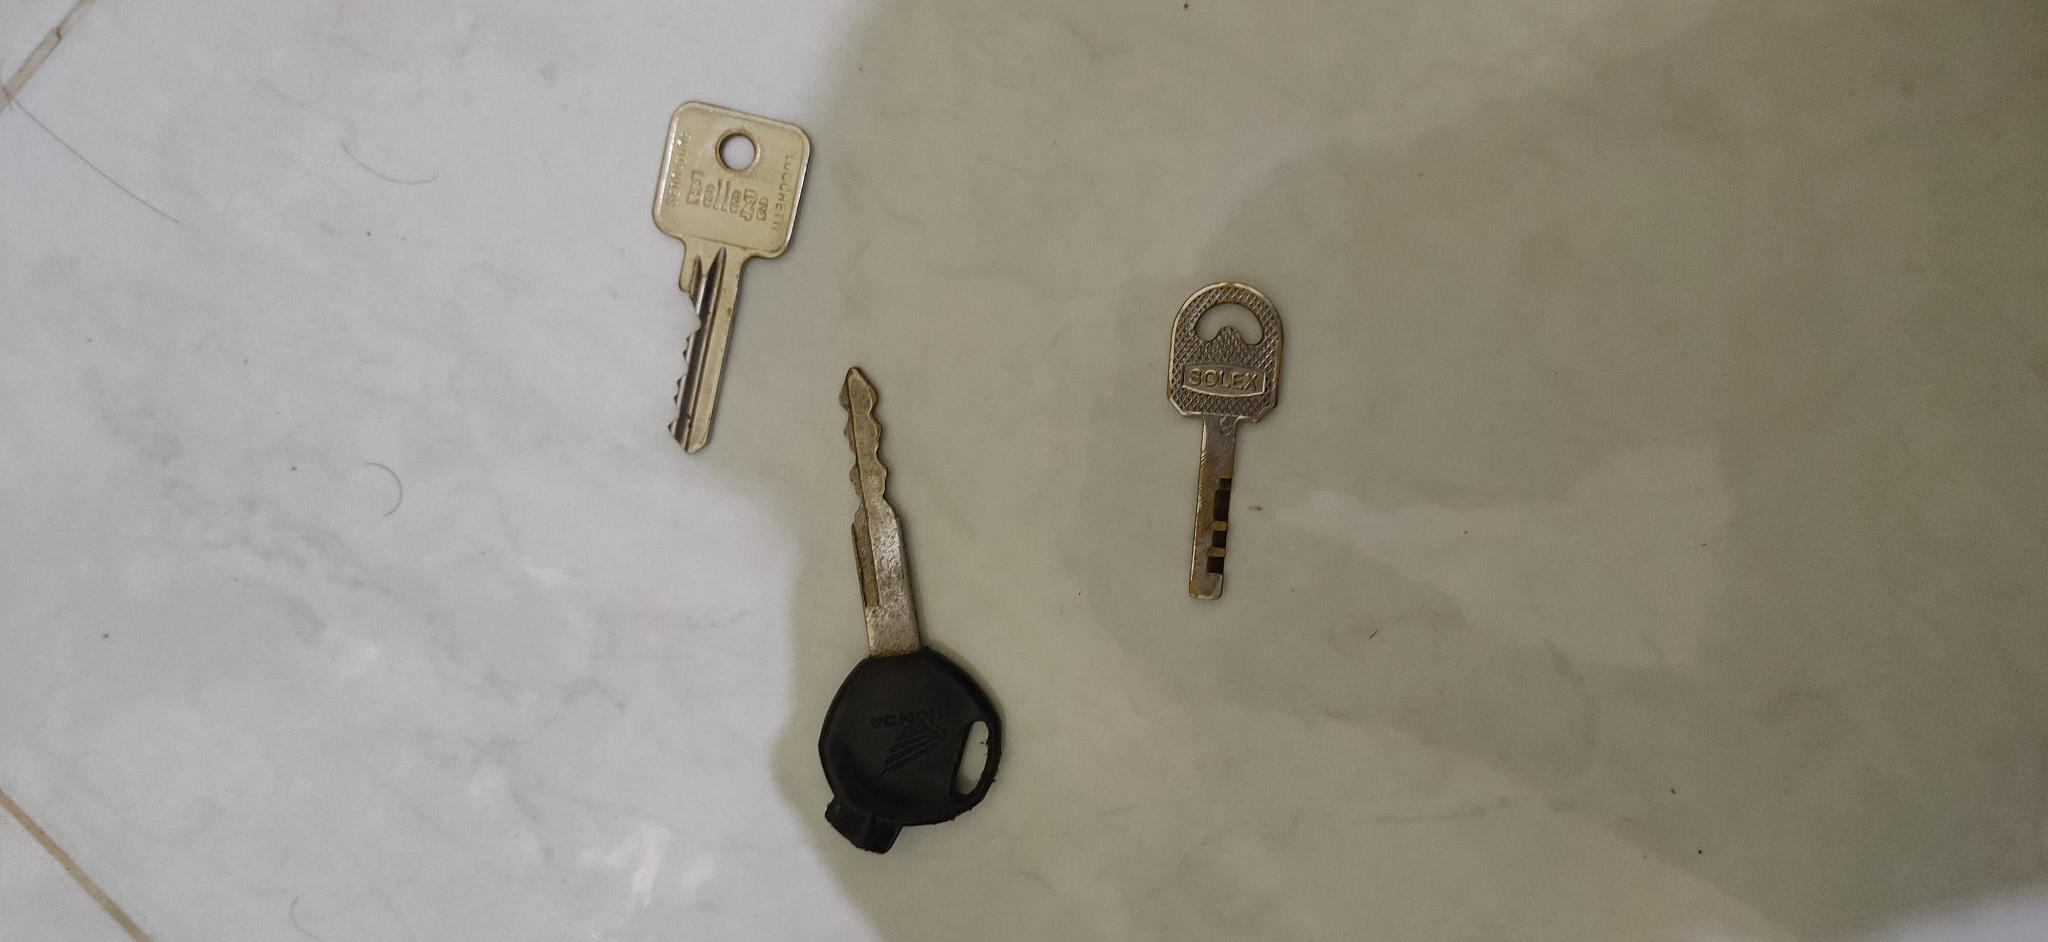keys: (811, 361, 1012, 862), (645, 95, 815, 466), (1159, 272, 1289, 609)
